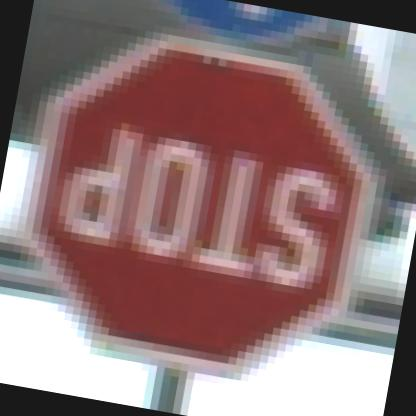stop: (0, 11, 404, 395)
